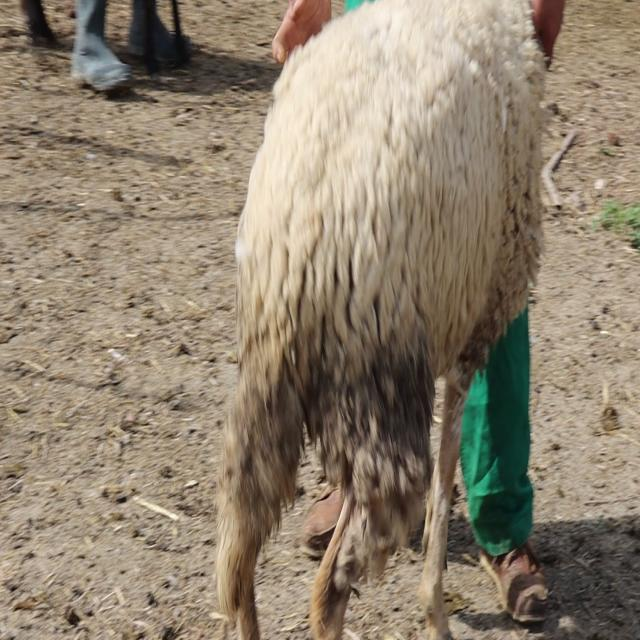Score_3: (216, 0, 545, 639)
